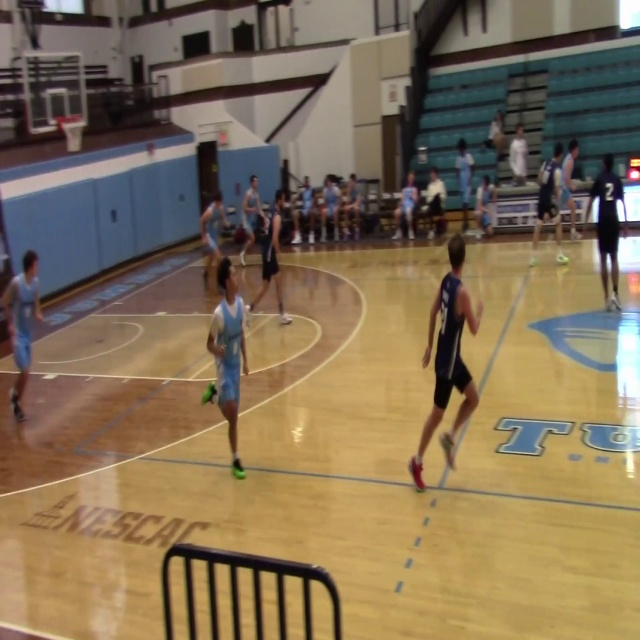Basketball: (234, 227, 246, 244)
